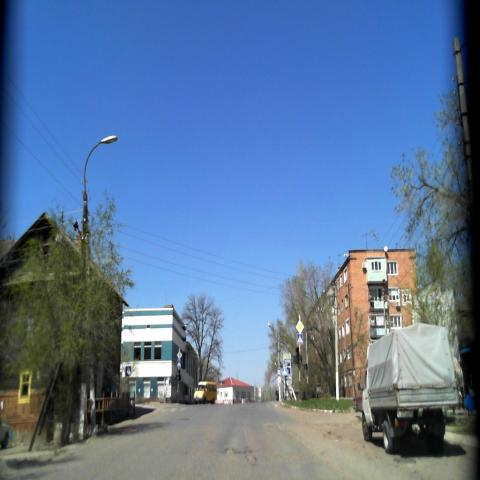2_1: (296, 320, 305, 333)
5_19_1: (125, 364, 131, 377), (297, 333, 304, 344), (176, 358, 182, 368)
